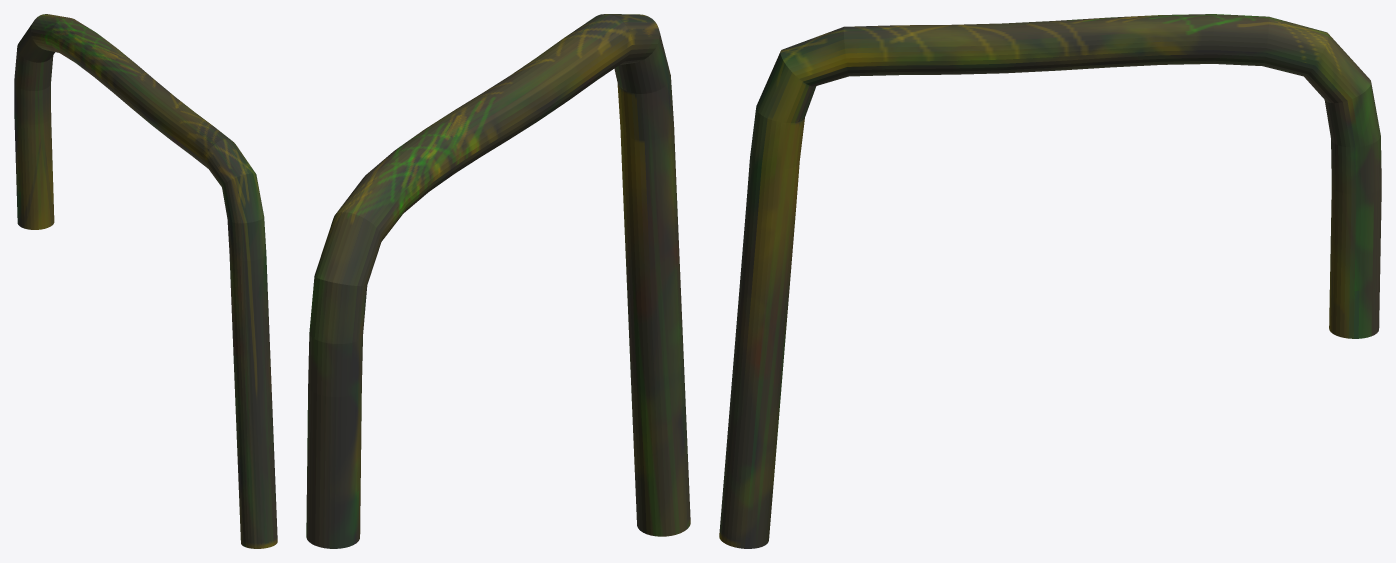
File: boru.fbx
3 views of the same model, side by side, from view 1: azimuth 30°, elevation 25°; view 2: azimuth 150°, elevation 25°; view 3: azimuth 270°, elevation 25° (orthographic). The views are drawn at different scales.
Parts seen in each view (by area): view 1: Cylinder.009; view 2: Cylinder.009; view 3: Cylinder.009.
Boxes of the visible parts, bbox=[...] form: Cylinder.009: bbox=[14, 14, 277, 548]; Cylinder.009: bbox=[306, 14, 690, 548]; Cylinder.009: bbox=[719, 14, 1381, 548].
Size of the model in its own units: 107 by 1135 by 1302.
Materials: 1 (1 with a texture image).
